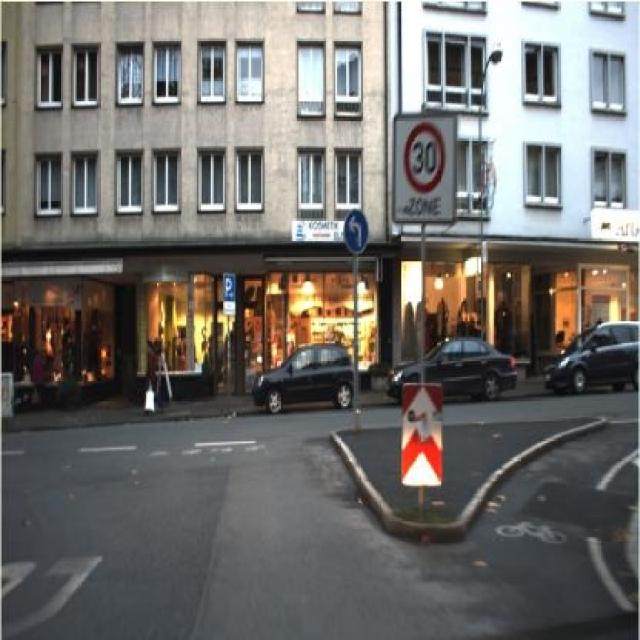forb_speed_over_30: (403, 121, 446, 196)
